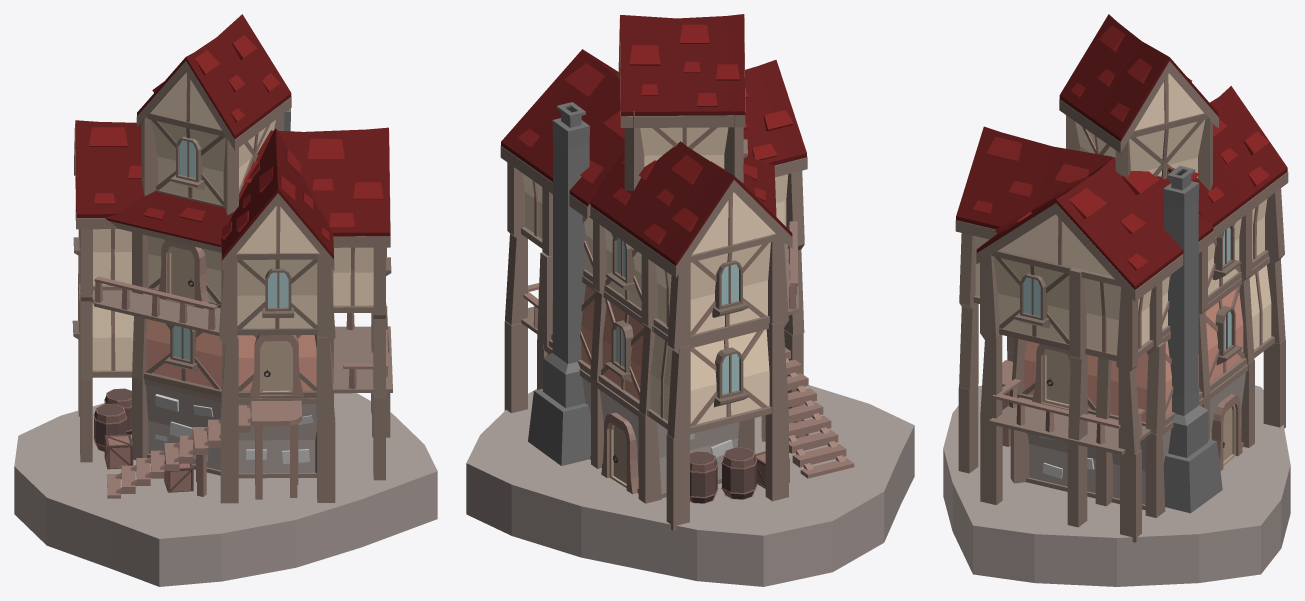
The model's file is building1.fbx.
3 views of the same model, side by side, from view 1: azimuth 30°, elevation 25°; view 2: azimuth 150°, elevation 25°; view 3: azimuth 270°, elevation 25° (orthographic). The views are drawn at different scales.
Visible parts, largest first — view 1: Plane.2664, WallA.040, WallA.039, WallA.043, WoodStairs01.002, WallA.044, Plane.2748, WallA.037, Plane.2678, Plane.2721, Plane.2717, Plane.2767 (+37 smaller); view 2: Plane.2664, WallA.039, Chimney.001, WallA.043, WallA.040, Plane.2771, Plane.2735, WallA.044, WoodStairs01.002, WallA.049, Torus.013, FrameA.039 (+37 smaller); view 3: Plane.2664, WallA.040, Chimney.001, WallA.039, WallA.044, WallA.043, Plane.2746, FrameA.040, Plane.2729, WallA.045, Plane.2702, Torus.010 (+46 smaller).
Part boxes in pixels (x1,y1,x2,y2): Plane.2664: (14, 393, 437, 586); WallA.040: (239, 127, 390, 247); WallA.039: (136, 14, 291, 150); WallA.043: (74, 120, 144, 229); WoodStairs01.002: (107, 400, 302, 499); WallA.044: (221, 128, 334, 271); Plane.2748: (237, 253, 317, 335); WallA.037: (104, 191, 233, 252); Plane.2678: (147, 113, 225, 207); Plane.2721: (144, 379, 221, 475); Plane.2717: (238, 398, 316, 478); Plane.2767: (143, 319, 222, 397); Plane.2664: (466, 385, 914, 586); WallA.039: (618, 14, 745, 127); Chimney.001: (528, 102, 590, 465); WallA.043: (589, 141, 792, 277); WallA.040: (500, 49, 624, 218); Plane.2771: (690, 323, 771, 433); Plane.2735: (689, 235, 773, 342); WallA.044: (743, 60, 807, 177); WoodStairs01.002: (761, 347, 854, 478); WallA.049: (640, 127, 728, 168); Torus.013: (601, 412, 638, 494); FrameA.039: (692, 192, 775, 254); Plane.2664: (943, 385, 1290, 586); WallA.040: (976, 157, 1213, 301); Chimney.001: (1163, 165, 1222, 513); WallA.039: (1059, 14, 1218, 153); WallA.044: (955, 126, 1112, 239); WallA.043: (1166, 86, 1288, 238); Plane.2746: (991, 250, 1072, 350); FrameA.040: (1129, 113, 1207, 179); Plane.2729: (1081, 270, 1120, 360); WallA.045: (1000, 214, 1111, 276); Plane.2702: (989, 397, 1150, 455); Torus.010: (1032, 344, 1070, 409).
Size of the model in its own units: 3824 by 4789 by 3219.
